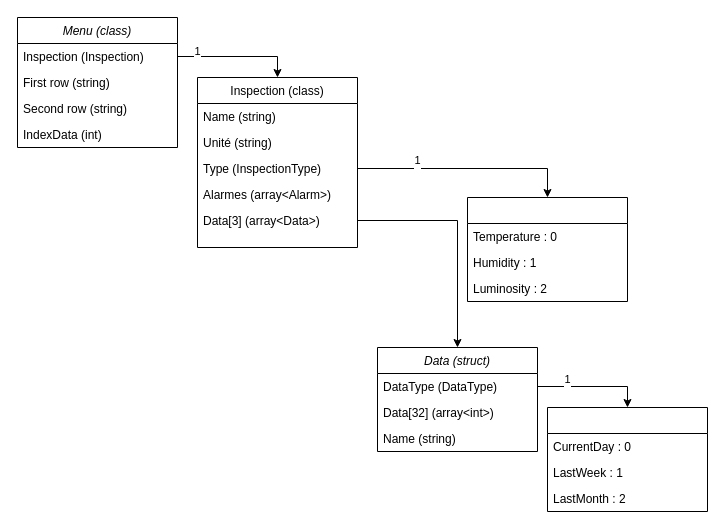
This 725x532 diagram has some shape labels left out. Each missing label, with the box of its shape:
DataType (enum): (546, 406, 708, 512)
InspectionType (enum): (466, 196, 628, 302)
